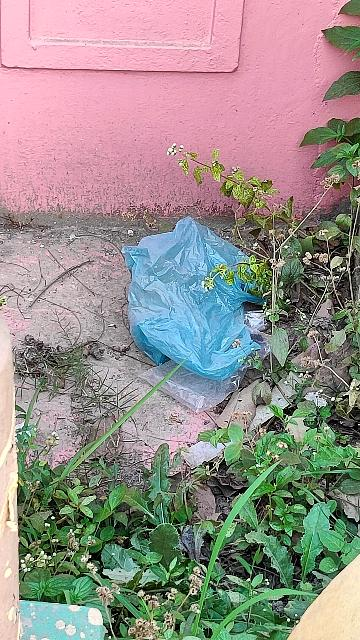polythene: (116, 218, 287, 378)
